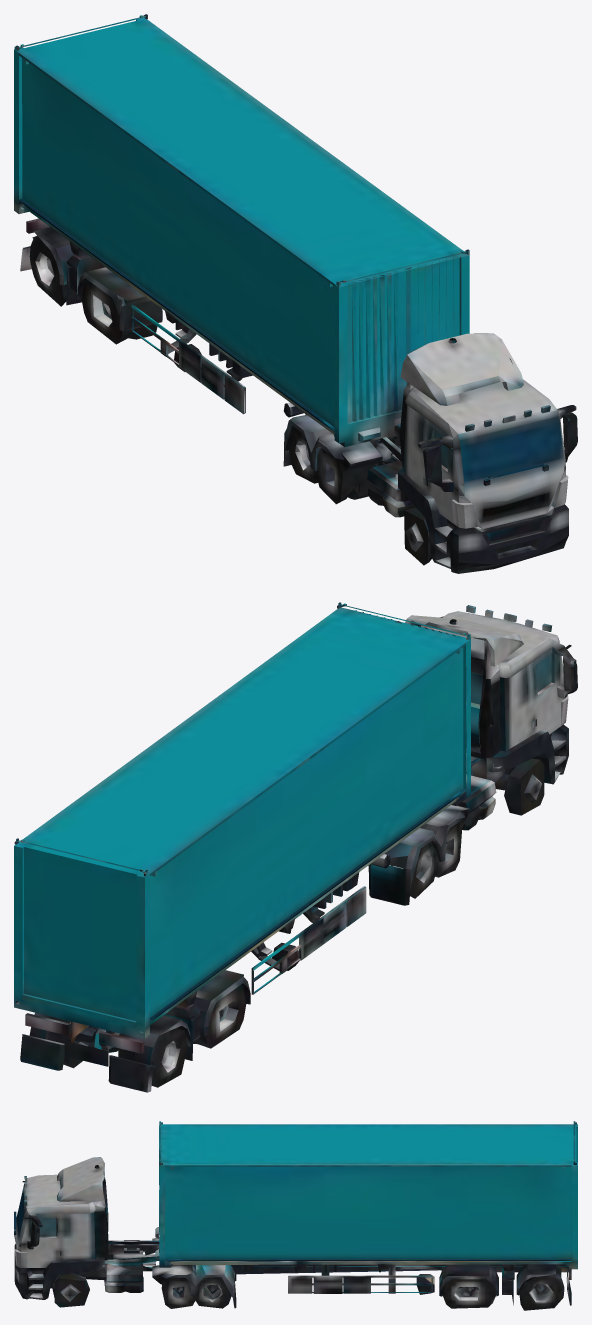
Rendered from truck_container_lod2.glb.
The picture shows the model from 3 angles, top to bottom: view 1: azimuth 30°, elevation 25°; view 2: azimuth 150°, elevation 25°; view 3: azimuth 270°, elevation 25°; orthographic projection. The views are drawn at different scales.
Parts seen in each view (by area): view 1: tripo_node_43921879; view 2: tripo_node_43921879; view 3: tripo_node_43921879.
Part boxes in pixels (x1,y1,x2,y2): tripo_node_43921879: (14, 14, 577, 573); tripo_node_43921879: (14, 602, 577, 1092); tripo_node_43921879: (14, 1121, 577, 1310).
Bounding box in the file's own units: 20.52 × 29.39 × 100.
Materials: 1 (1 with a texture image).
